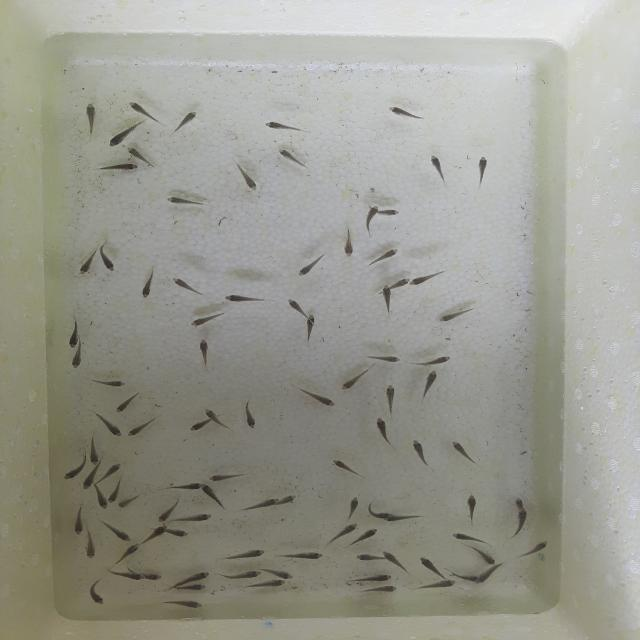fingerling: (257, 118, 319, 138), (382, 103, 432, 126), (270, 145, 312, 172), (293, 386, 338, 411), (466, 152, 494, 192), (338, 362, 372, 393), (406, 434, 435, 470), (230, 161, 262, 193), (448, 438, 482, 468), (168, 272, 206, 298), (422, 152, 451, 186), (167, 109, 200, 138), (296, 251, 328, 280), (326, 455, 364, 479), (514, 538, 550, 563), (416, 367, 439, 406), (219, 546, 268, 564), (410, 266, 450, 288), (160, 193, 208, 211), (90, 412, 124, 437), (236, 494, 280, 513), (80, 577, 107, 607), (100, 518, 132, 543), (437, 304, 475, 324), (237, 397, 259, 431), (138, 265, 158, 302), (408, 353, 454, 369), (382, 549, 411, 574), (461, 491, 479, 531), (375, 413, 395, 448), (277, 548, 327, 562), (342, 571, 395, 584), (124, 98, 155, 120), (124, 417, 155, 439), (417, 554, 445, 578), (185, 311, 222, 329), (114, 542, 141, 566), (381, 380, 398, 418), (171, 511, 214, 526), (87, 162, 140, 174), (362, 205, 381, 238), (340, 494, 363, 521), (222, 292, 266, 306), (368, 247, 404, 264), (195, 336, 212, 372), (364, 500, 394, 520), (414, 579, 460, 592), (217, 568, 262, 581), (81, 100, 97, 136), (341, 225, 357, 260), (114, 393, 140, 414), (302, 314, 318, 348), (141, 524, 168, 544), (90, 376, 128, 390), (356, 525, 379, 548), (282, 295, 306, 317), (356, 584, 400, 596), (450, 531, 490, 544), (108, 569, 144, 583), (164, 597, 206, 609), (66, 318, 82, 349), (83, 529, 99, 560), (70, 504, 86, 535), (512, 507, 529, 536), (244, 578, 288, 589), (76, 254, 96, 278), (58, 464, 83, 482), (124, 145, 150, 162), (206, 472, 250, 482), (182, 569, 212, 583), (366, 353, 404, 364), (262, 567, 294, 580), (106, 132, 131, 148), (118, 493, 143, 509), (353, 551, 381, 565), (165, 480, 204, 490), (334, 521, 363, 534), (382, 282, 392, 319), (70, 348, 86, 371), (86, 438, 99, 466), (474, 549, 496, 565), (392, 274, 410, 292), (77, 474, 95, 491), (104, 461, 122, 478), (475, 568, 494, 584), (179, 582, 209, 592), (186, 420, 208, 433), (279, 492, 299, 506), (95, 490, 108, 511), (101, 254, 116, 272), (145, 570, 165, 583), (381, 207, 401, 219), (167, 528, 191, 538), (200, 406, 218, 418), (156, 511, 170, 523), (108, 491, 120, 504), (512, 495, 524, 506)
